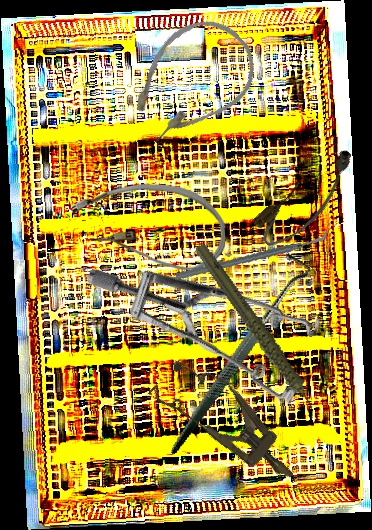Cannula: (109, 1, 272, 162), (70, 182, 227, 272), (248, 143, 368, 254)
Chopper: (175, 206, 329, 303)
Handpiece: (193, 227, 319, 438)
Hook Surgical: (113, 246, 358, 456)
Speculum: (83, 178, 351, 460), (146, 347, 312, 500)
